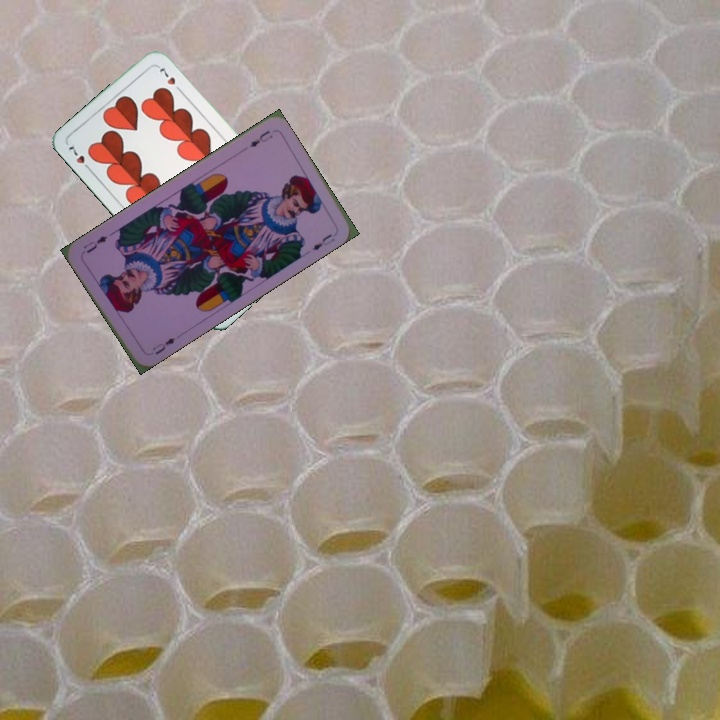EU: (148, 333, 178, 358), (245, 126, 275, 150)
H7: (64, 141, 94, 174)
